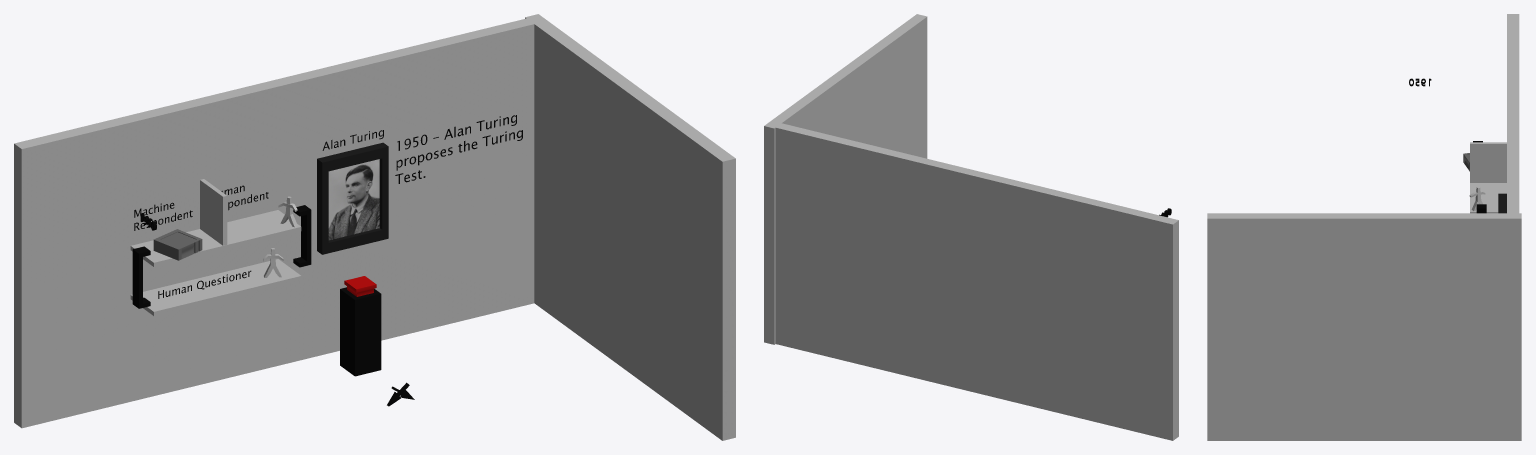
3 renders of one model, left to right at view 1: azimuth 30°, elevation 25°; view 2: azimuth 150°, elevation 25°; view 3: azimuth 270°, elevation 25°, orthographic. The views are drawn at different scales.
Visible parts, largest first — view 1: pCube252, pCube268, pCube249, pCube263, pCube269, pCube253, pCube254, typeMesh15, pCube257, pCube266, pCube267; view 2: pCube252, pCube268; view 3: pCube268, pCube252, pCube254, pCube253.
Part boxes in pixels (x1=…): pCube252: x1=14, y1=16, x2=542, y2=428; pCube268: x1=525, y1=14, x2=735, y2=440; pCube249: x1=317, y1=142, x2=388, y2=254; pCube263: x1=130, y1=259, x2=301, y2=315; pCube269: x1=340, y1=287, x2=381, y2=376; pCube253: x1=130, y1=210, x2=301, y2=266; pCube254: x1=200, y1=179, x2=227, y2=245; typeMesh15: x1=395, y1=115, x2=522, y2=183; pCube257: x1=153, y1=229, x2=202, y2=260; pCube266: x1=132, y1=246, x2=150, y2=308; pCube267: x1=293, y1=205, x2=311, y2=267; pCube252: x1=769, y1=122, x2=1178, y2=440; pCube268: x1=764, y1=14, x2=927, y2=344; pCube268: x1=1207, y1=213, x2=1521, y2=440; pCube252: x1=1507, y1=14, x2=1519, y2=216; pCube254: x1=1470, y1=142, x2=1506, y2=182; pCube253: x1=1470, y1=183, x2=1506, y2=213.
Bounding box in the file's own units: 17.14 × 8.98 × 11.14.
7 materials, 1 textured.
